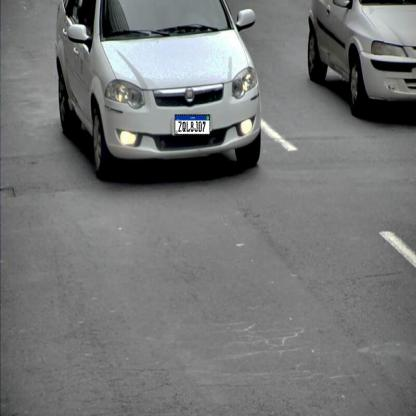PlacaM: (175, 114, 210, 136)
